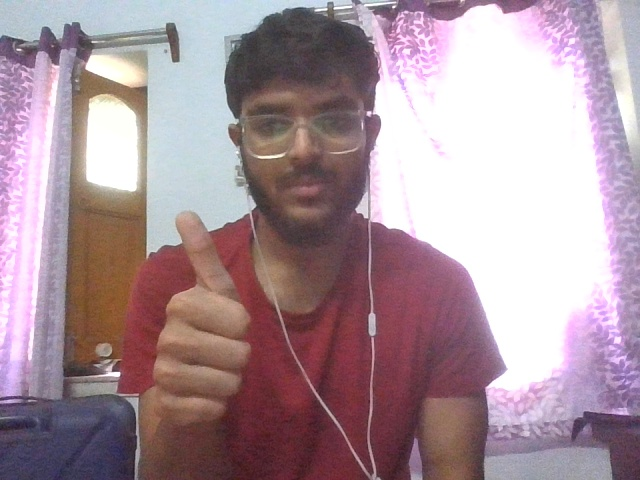ThumbsUp: (152, 210, 253, 426)
